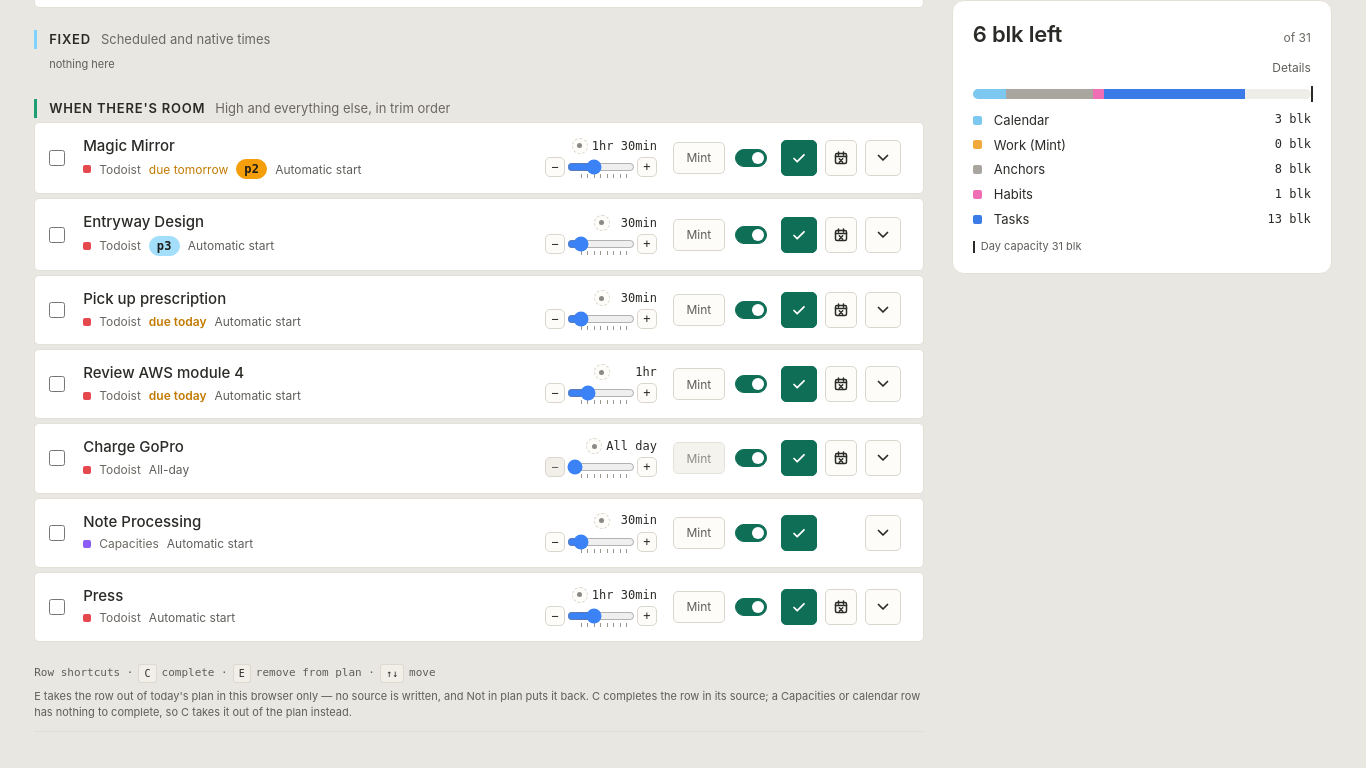
Scenario: collapsed row duration cell › clamps the steppers at the track ends, and − from 15 lands on All-day
(page scrolled)
Set the 7th slider named "Duration slider" to "240" at (627,616), box top-left (567, 605), bottom-right (635, 627)
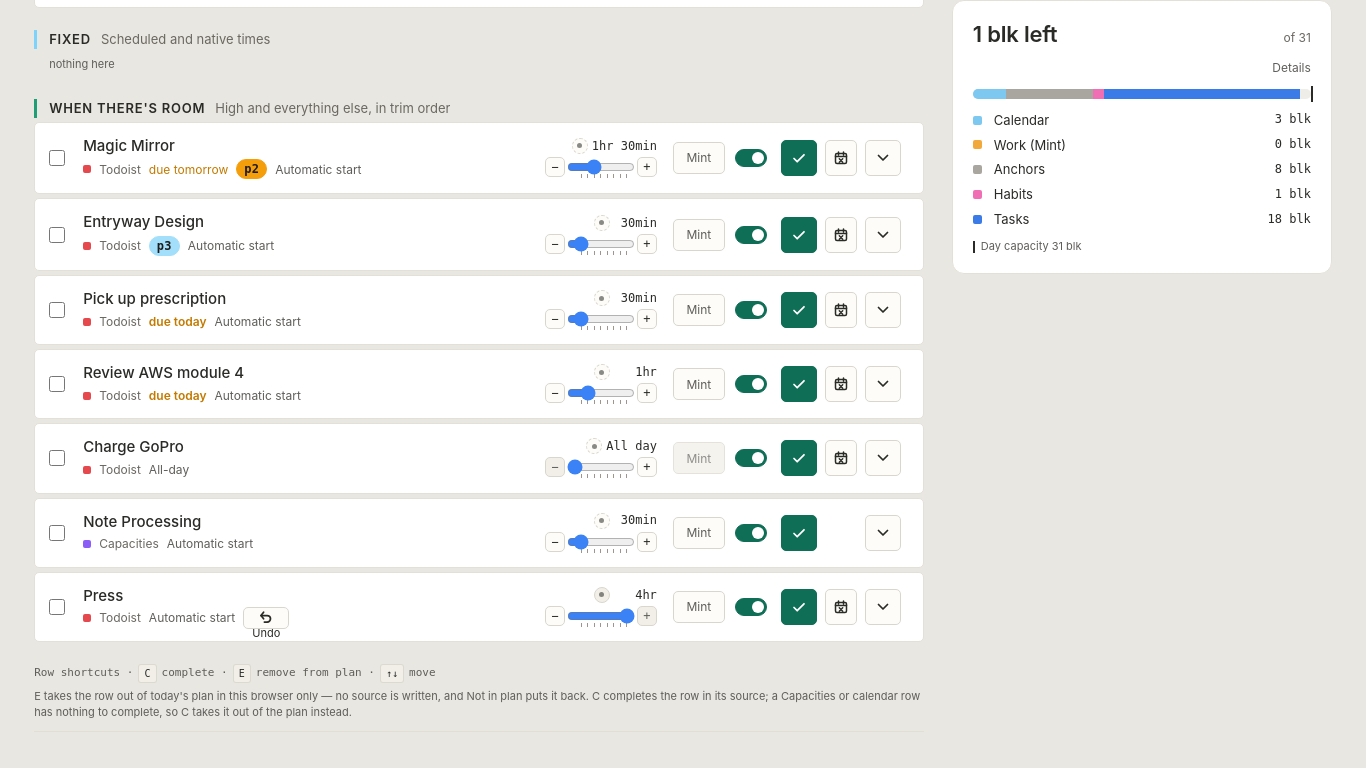
Expected: the button "+" below "4hr" is disabled, top-left (637, 606), bottom-right (657, 626)
Expected: the button "−" below "4hr" is enabled, top-left (545, 606), bottom-right (565, 626)
Set the slider named "Duration slider" below "4hr" to "15" at (578,616), box top-left (567, 605), bottom-right (635, 627)
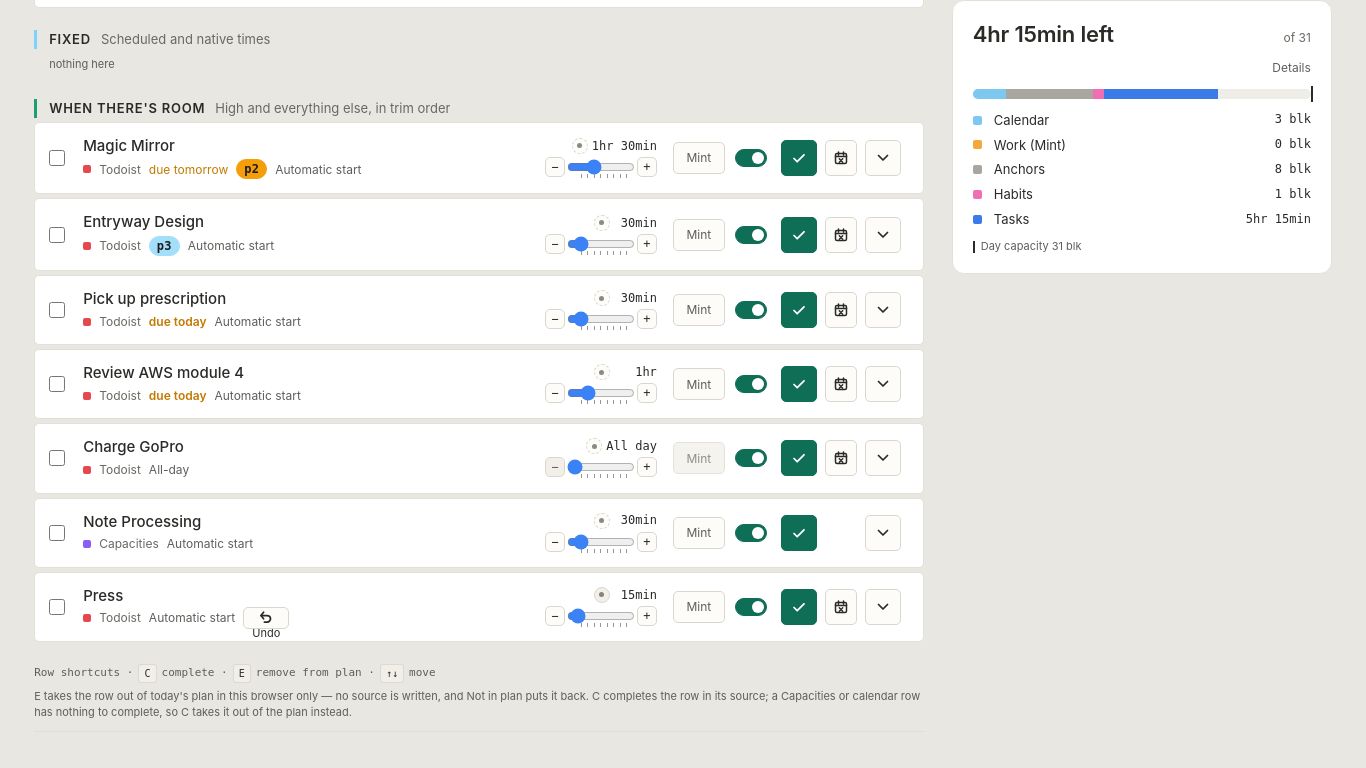
Click the 7th button "−".
click(555, 616)  # box top-left (545, 606), bottom-right (565, 626)
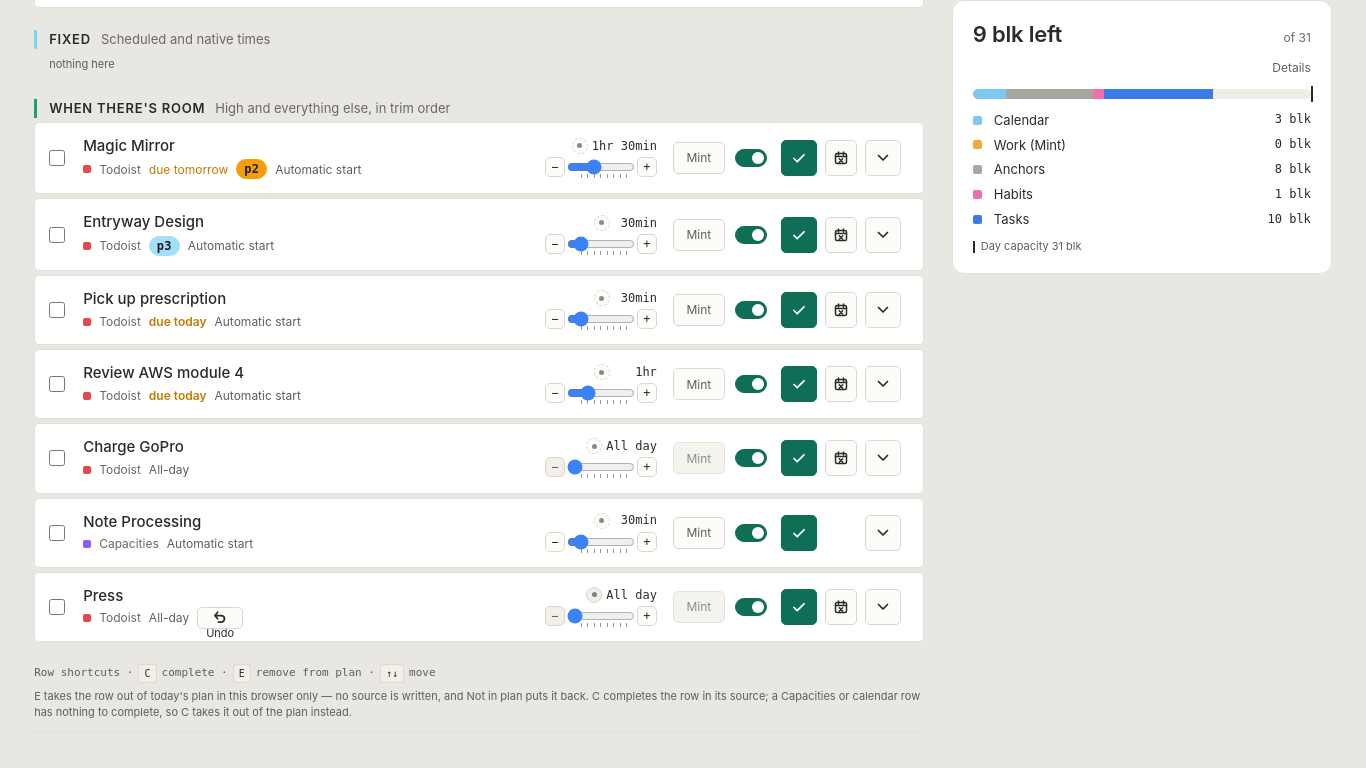
Expected: the text "All day" in the row of "Charge GoPro" is shown, top-left (606, 439), bottom-right (657, 453)
Expected: the 7th slider named "Duration slider" holds "0", top-left (567, 605), bottom-right (635, 627)
